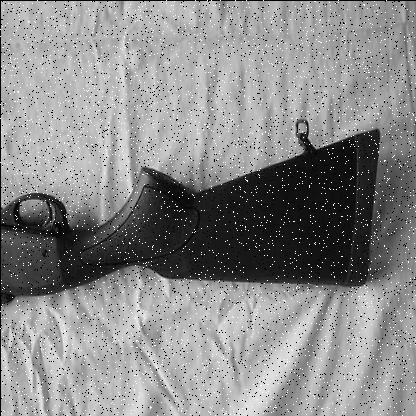rifle: (1, 142, 387, 324)
